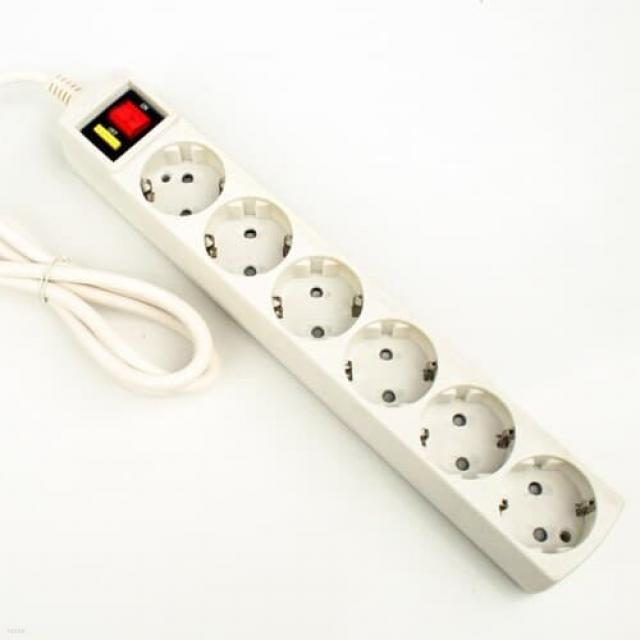typeb: (17, 52, 634, 629)
